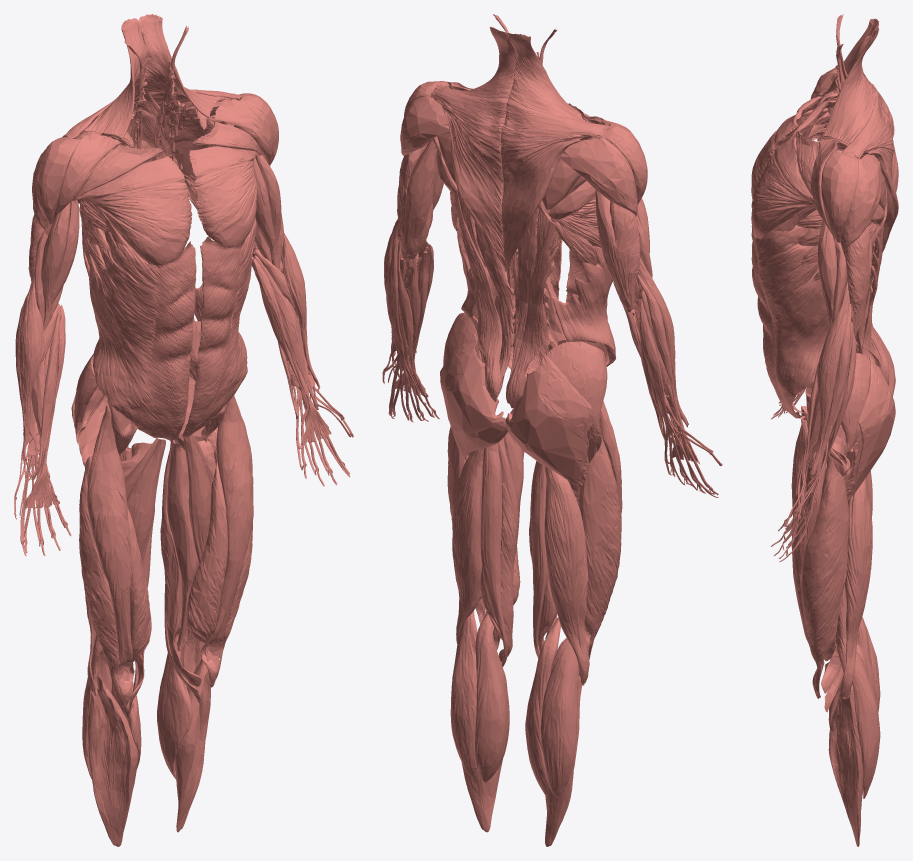
Rendered from anatomy-muscles.glb.
3 renders of one model, left to right at view 1: azimuth 30°, elevation 25°; view 2: azimuth 150°, elevation 25°; view 3: azimuth 270°, elevation 25°, orthographic.
Parts seen in each view (by area): view 1: obliques, quadriceps, pectoralis_major, calves, forearm_flexors, adductors, forearm_extensors, trapezius, biceps_brachii, hamstrings, anterior_deltoid, erector_spinae (+8 smaller); view 2: hamstrings, trapezius, calves, gluteus_maximus, erector_spinae, forearm_extensors, quadriceps, triceps_brachii, obliques, posterior_deltoid, forearm_flexors, gluteus_medius (+8 smaller); view 3: obliques, quadriceps, calves, pectoralis_major, trapezius, hamstrings, forearm_extensors, gluteus_maximus, lateral_deltoid, erector_spinae, posterior_deltoid, forearm_flexors (+9 smaller).
Boxes of the visible parts, left/top/right/bottom form: obliques: left=89, top=217, right=256, bottom=441; quadriceps: left=79, top=395, right=253, bottom=708; pectoralis_major: left=72, top=121, right=262, bottom=285; calves: left=82, top=629, right=210, bottom=846; forearm_flexors: left=19, top=249, right=351, bottom=555; adductors: left=121, top=434, right=215, bottom=660; forearm_extensors: left=14, top=233, right=353, bottom=556; trapezius: left=62, top=14, right=241, bottom=163; biceps_brachii: left=41, top=131, right=281, bottom=331; hamstrings: left=84, top=430, right=219, bottom=720; anterior_deltoid: left=53, top=98, right=273, bottom=222; erector_spinae: left=97, top=25, right=194, bottom=252; hamstrings: left=452, top=438, right=589, bottom=685; trapezius: left=431, top=27, right=609, bottom=278; calves: left=450, top=611, right=581, bottom=846; gluteus_maximus: left=440, top=337, right=594, bottom=488; erector_spinae: left=454, top=14, right=558, bottom=408; forearm_extensors: left=382, top=218, right=722, bottom=497; quadriceps: left=447, top=350, right=622, bottom=659; triceps_brachii: left=397, top=139, right=640, bottom=312; obliques: left=457, top=210, right=615, bottom=373; posterior_deltoid: left=400, top=95, right=637, bottom=216; forearm_flexors: left=388, top=240, right=719, bottom=495; gluteus_medius: left=443, top=312, right=607, bottom=434; obliques: left=751, top=224, right=829, bottom=418; quadriceps: left=791, top=409, right=848, bottom=698; calves: left=828, top=617, right=880, bottom=846; pectoralis_major: left=751, top=96, right=829, bottom=257; trapezius: left=823, top=18, right=898, bottom=252; hamstrings: left=821, top=441, right=872, bottom=711; forearm_extensors: left=779, top=278, right=856, bottom=562; gluteus_maximus: left=844, top=327, right=895, bottom=500; lateral_deltoid: left=821, top=68, right=858, bottom=242; erector_spinae: left=835, top=14, right=889, bottom=385; posterior_deltoid: left=840, top=155, right=881, bottom=251; forearm_flexors: left=771, top=355, right=829, bottom=558.
Bounding box in the file's own units: 0.6388 × 1.47 × 0.2439.
